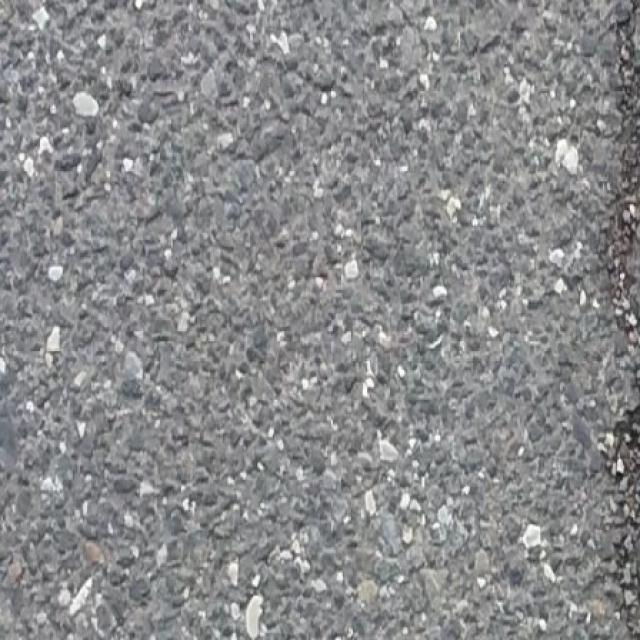Vertical Crack: (608, 0, 640, 343), (604, 412, 640, 638)
